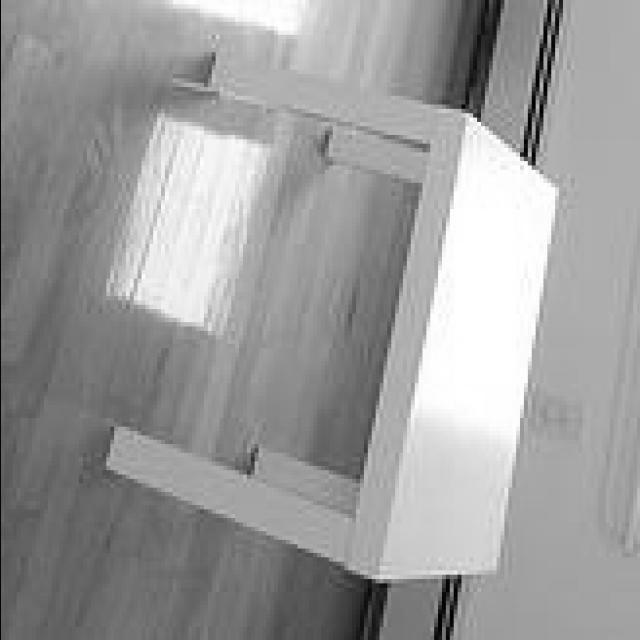table: (106, 48, 562, 585)
